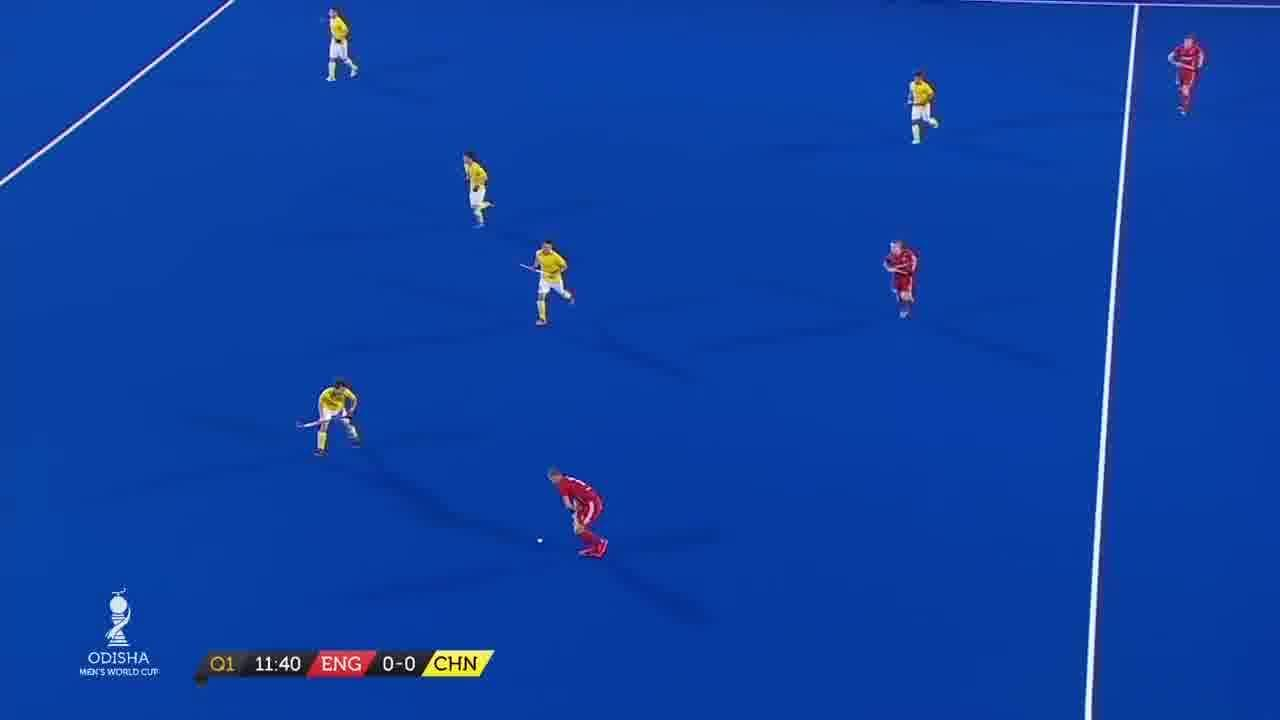ball: (532, 530, 550, 551)
